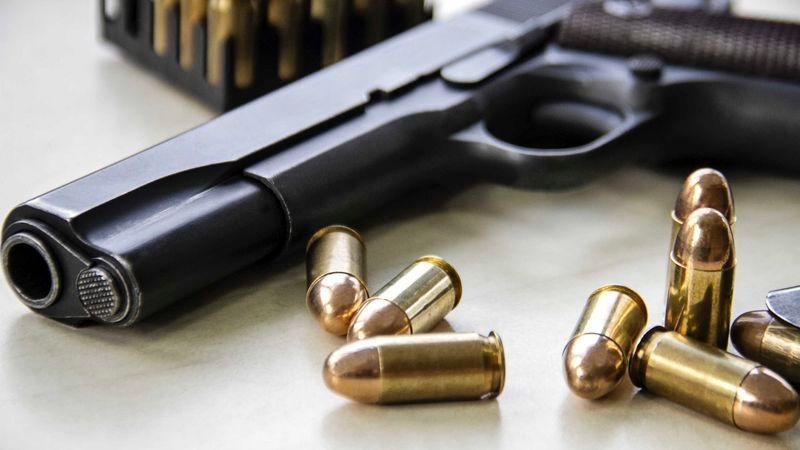bullet: (317, 329, 507, 404)
gun: (4, 1, 648, 309)
